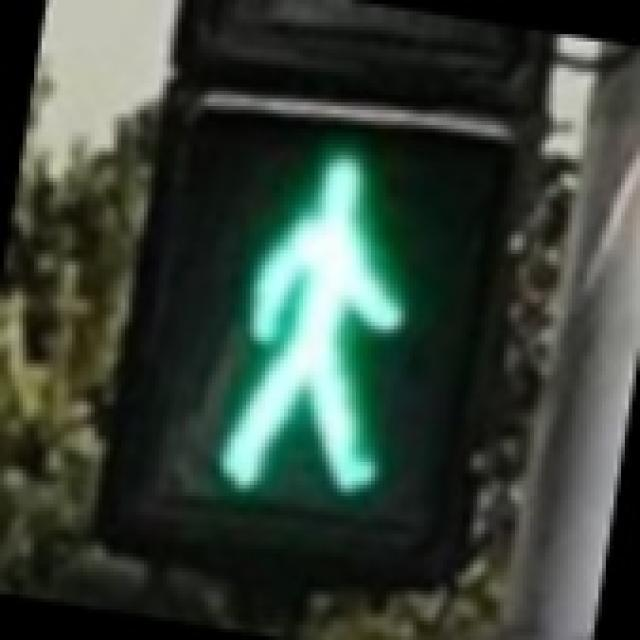geen-crossing: (118, 76, 512, 553)
